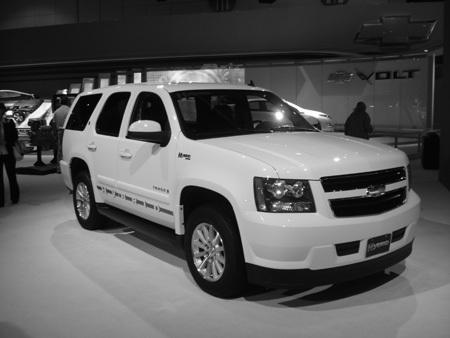car: (61, 82, 422, 302)
